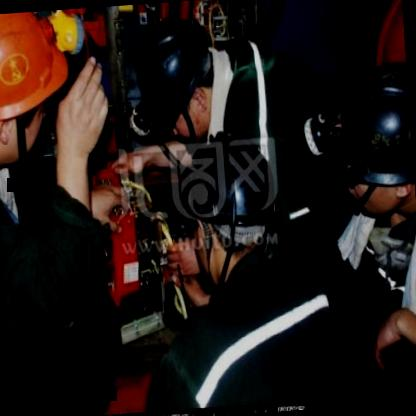helmet: (312, 62, 416, 222), (178, 136, 285, 290), (128, 13, 231, 144), (0, 9, 76, 171)
